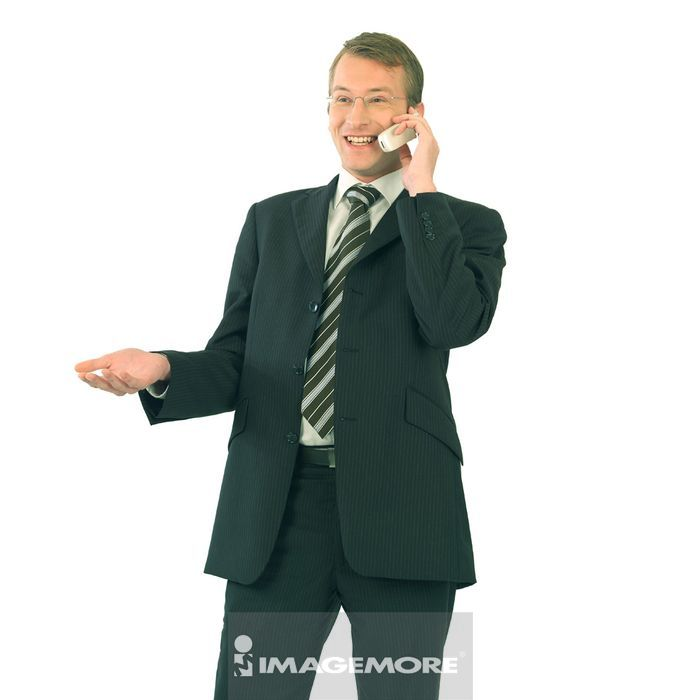talk: (325, 74, 439, 193)
